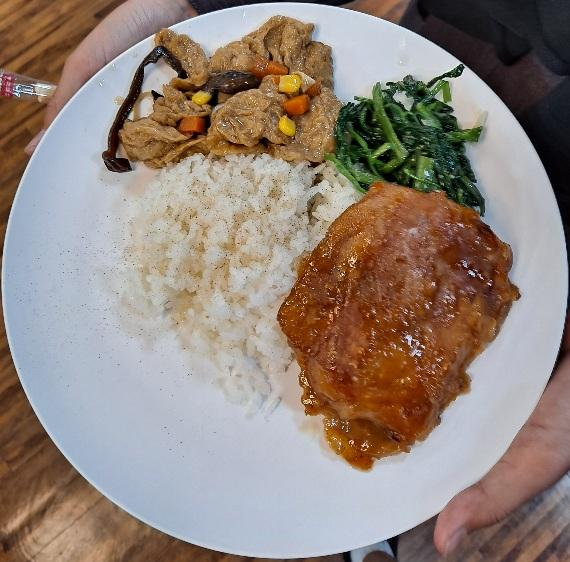big fried chicken leg: (5, 10, 570, 551)
big herbal chicken leg: (126, 168, 292, 407)
braised fish fillet: (116, 27, 343, 169), (343, 75, 498, 209)
braised pork: (299, 183, 523, 460)
